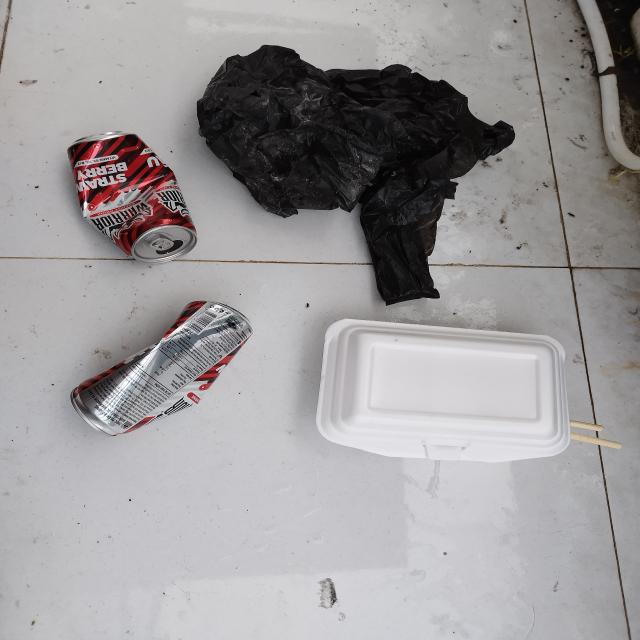bag: (198, 44, 518, 306)
can: (71, 300, 256, 436), (66, 132, 198, 264)
foam box: (314, 318, 569, 462)
